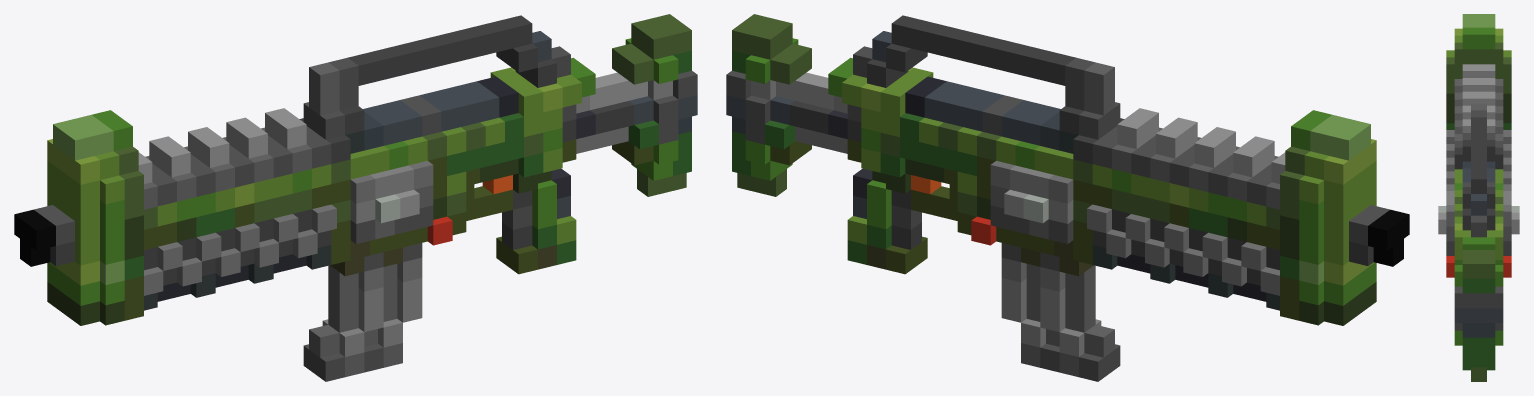
File: AR_JMB_Underdoug.obj
3 views of the same model, side by side, from view 1: azimuth 30°, elevation 25°; view 2: azimuth 150°, elevation 25°; view 3: azimuth 270°, elevation 25° (orthographic). The views are drawn at different scales.
Size of the model in its own units: 34 by 15 by 5.
